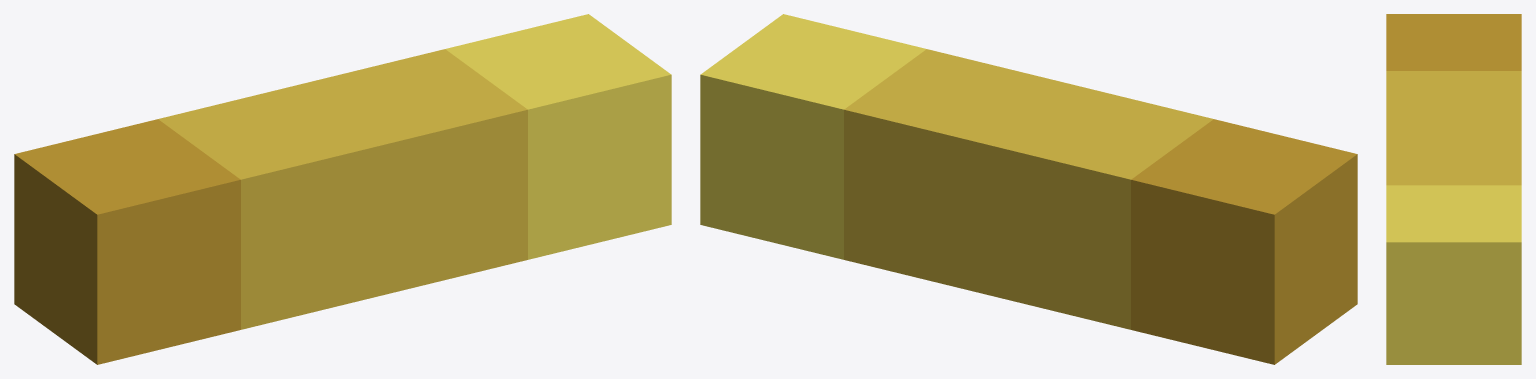
File: 5mmcasA.obj
3 views of the same model, side by side, from view 1: azimuth 30°, elevation 25°; view 2: azimuth 150°, elevation 25°; view 3: azimuth 270°, elevation 25° (orthographic). The views are drawn at different scales.
Visible parts, largest first — view 1: 5mm; view 2: 5mm; view 3: 5mm.
Boxes of the visible parts, bbox=[...] form: 5mm: bbox=[14, 14, 671, 364]; 5mm: bbox=[700, 14, 1357, 364]; 5mm: bbox=[1386, 14, 1521, 364].
Size of the model in its own units: 0.4 by 0.1 by 0.1.
1 material, 1 textured.
